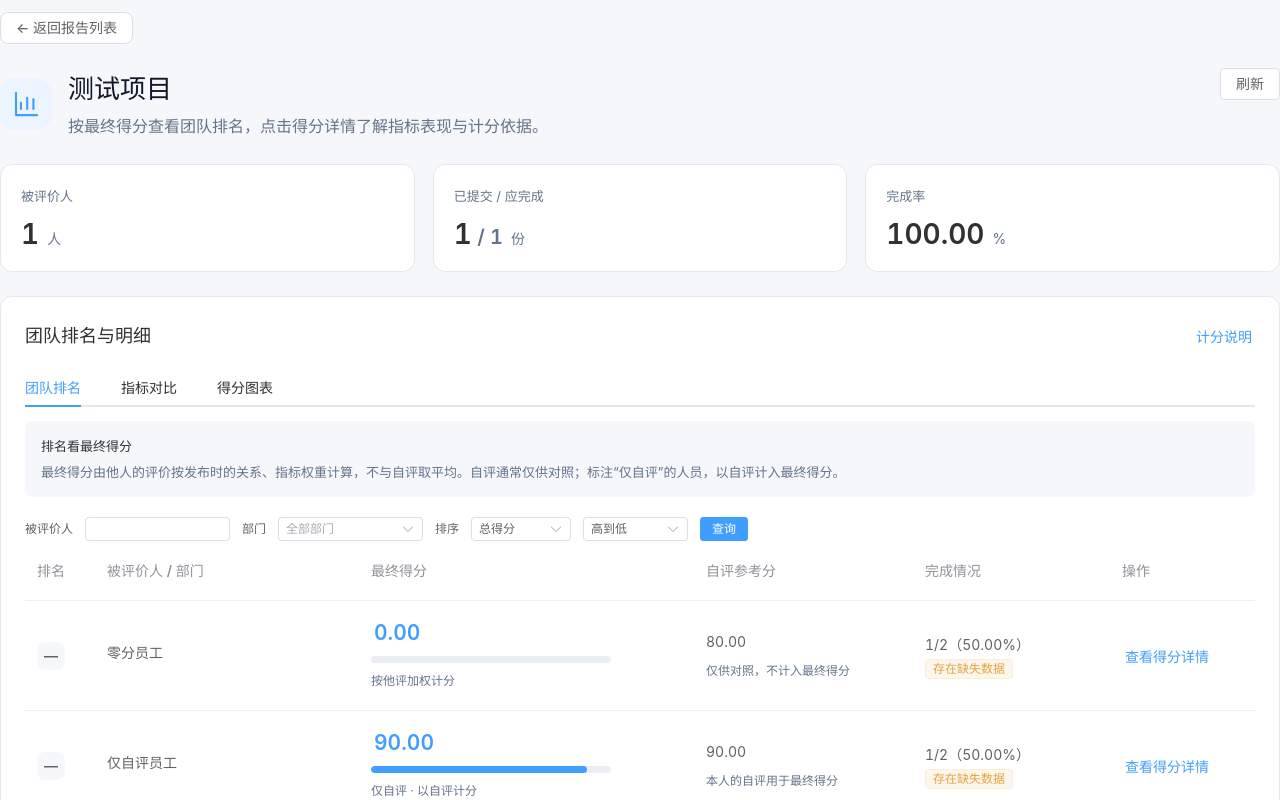
Test: 主表突出最终得分并区分零分、缺失和仅自评，详情保留入口
Expected: the text "指标分" is not shown
Expected: the row that starts with "零分员工" shows "0.00", top-left (371, 619), bottom-right (423, 646)
Click the button "查看得分详情" in the row of "仅自评员工". click: (1167, 768)
box: top-left (1122, 758), bottom-right (1212, 778)
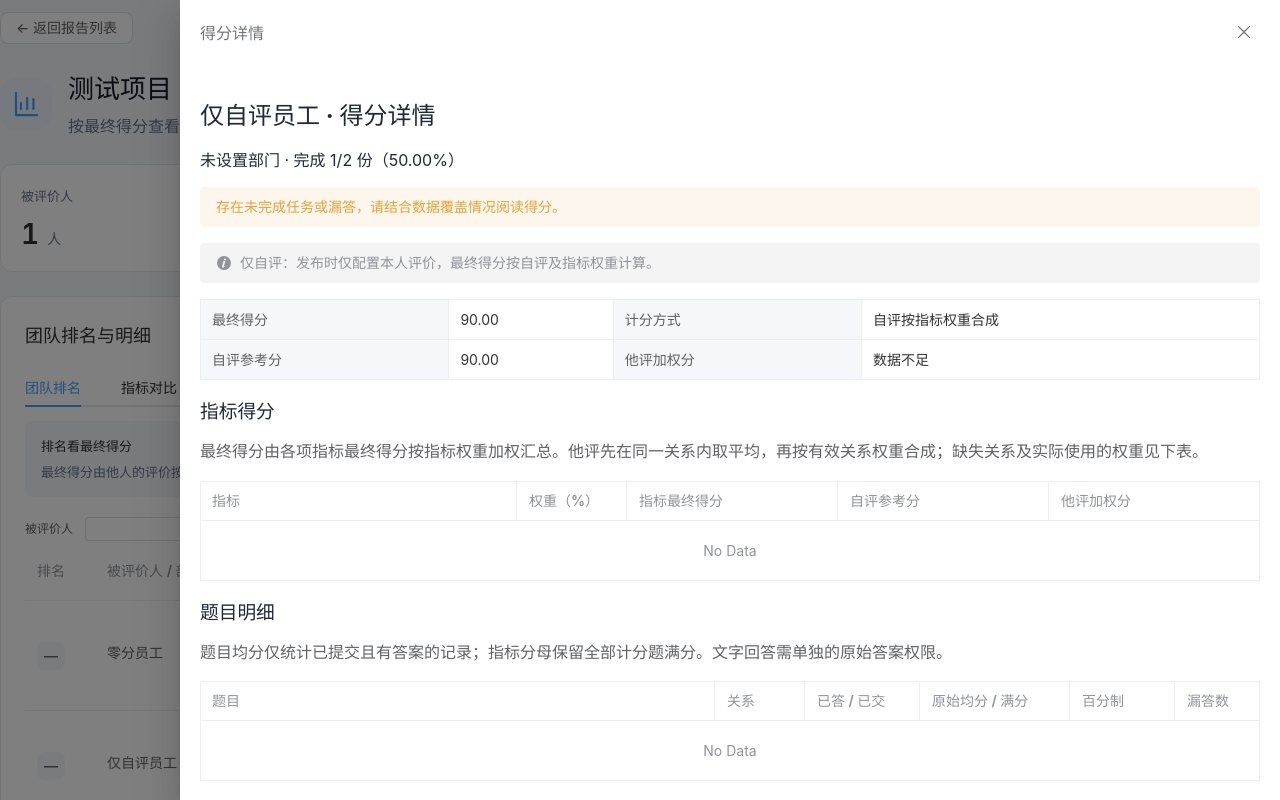
Expected: the text "最终得分按自评及指标权重计算" is shown, top-left (240, 254), bottom-right (660, 271)
